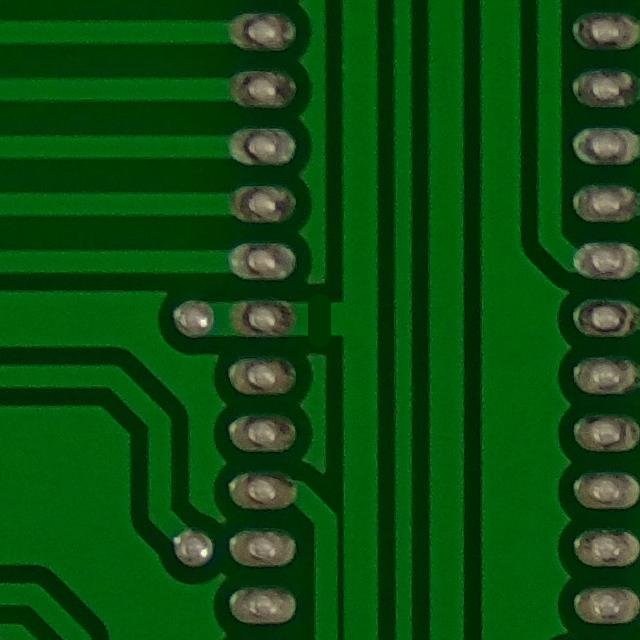open_circuit: (297, 293, 344, 347)
